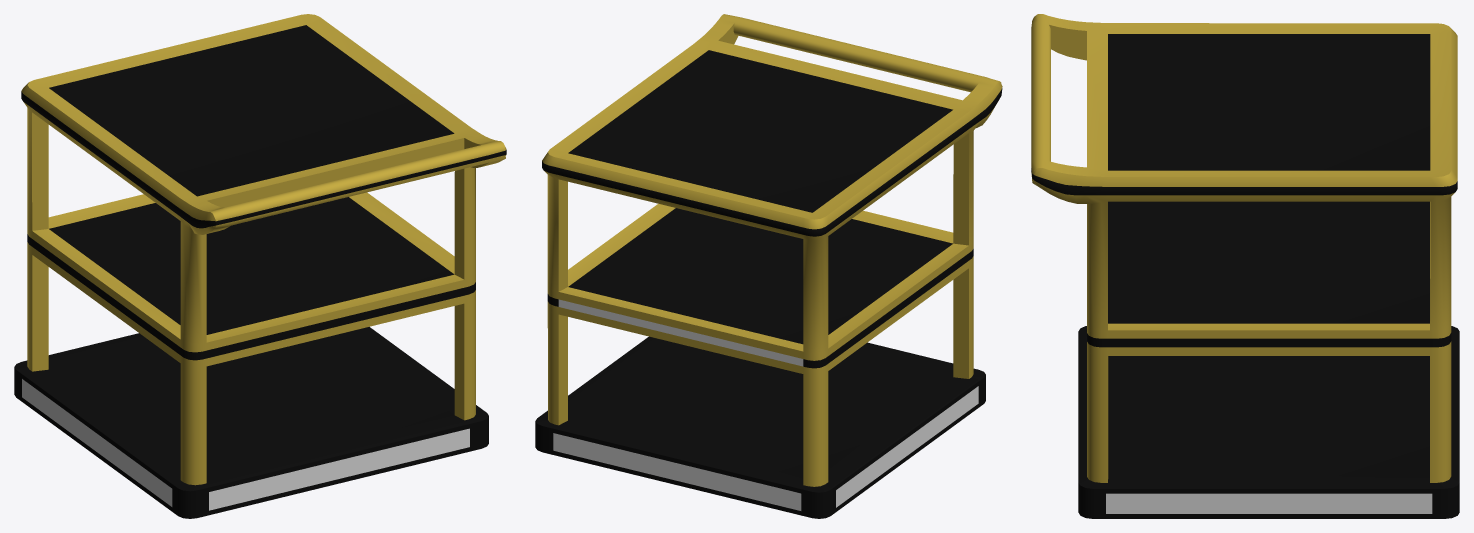
Rendered from WorkStation.fbox.fbx.
3 renders of one model, left to right at view 1: azimuth 30°, elevation 25°; view 2: azimuth 150°, elevation 25°; view 3: azimuth 270°, elevation 25°, orthographic. The views are drawn at different scales.
Visible parts, largest first — view 1: Cube.008; view 2: Cube.008; view 3: Cube.008.
Part boxes in pixels (<box>): Cube.008: <box>14,14,506,518</box>; Cube.008: <box>535,14,1002,518</box>; Cube.008: <box>1031,14,1459,518</box>.
Size of the model in its own units: 84.15 by 83.13 by 93.09.
